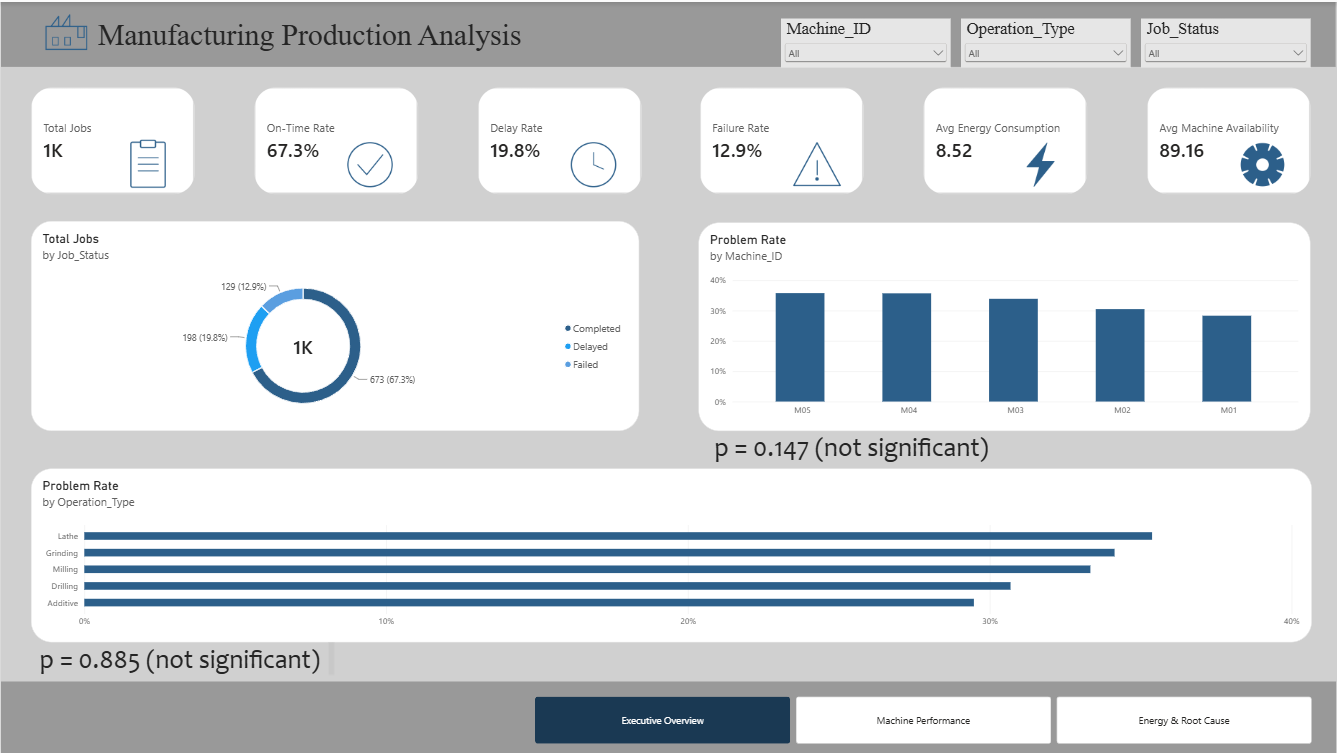

Layout of this report page (visuals, bound fields, positions):
{"tool":"powerbi","page":{"name":"Executive Overview","canvas":[1920,1080],"ordinal":0},"visuals":[{"type":"textbox","box":[0,977.2,1919.9,103.5],"z":0},{"type":"pageNavigator","box":[768.2,997.8,1119.7,68],"z":1000},{"type":"textbox","box":[0,0,1919.1,93.5],"z":2000},{"type":"cardVisual","fields":{"Data":["hybrid_manufacturing.Total Jobs"]},"box":[43.5,121.9,235.3,153.1],"z":3000},{"type":"cardVisual","fields":{"Data":["hybrid_manufacturing.On-Time Rate"]},"box":[364.3,121.9,235.3,153.1],"z":4000},{"type":"cardVisual","fields":{"Data":["hybrid_manufacturing.Delay Rate"]},"box":[685.2,121.9,235.3,153.1],"z":5000},{"type":"cardVisual","fields":{"Data":["hybrid_manufacturing.Failure Rate"]},"box":[1006.1,122.7,235.3,153.1],"z":6000},{"type":"cardVisual","fields":{"Data":["hybrid_manufacturing.Avg Energy Consumption"]},"box":[1327,121.9,235.3,153.1],"z":7000},{"type":"cardVisual","fields":{"Data":["hybrid_manufacturing.Avg Machine Availability"]},"box":[1647.9,121.9,235.3,153.1],"z":8000},{"type":"donutChart","fields":{"Category":["hybrid_manufacturing.Job_Status"],"Y":["hybrid_manufacturing.Total Jobs"]},"box":[43.2,315.8,874.5,302.1],"z":9000},{"type":"clusteredColumnChart","fields":{"Category":["hybrid_manufacturing.Machine_ID"],"Y":["hybrid_manufacturing.Problem Rate"]},"box":[1003.1,317.1,880.1,299.8],"z":10000},{"type":"clusteredBarChart","fields":{"Category":["hybrid_manufacturing.Operation_Type"],"Y":["hybrid_manufacturing.Problem Rate"]},"box":[43.1,670.9,1842.2,250.2],"z":11000},{"type":"slicer","fields":{"Values":["hybrid_manufacturing.Machine_ID"]},"box":[1122.6,22.7,243.8,70.9],"z":12000},{"type":"slicer","fields":{"Values":["hybrid_manufacturing.Operation_Type"]},"box":[1380.5,22.7,243.8,70.9],"z":13000},{"type":"slicer","fields":{"Values":["hybrid_manufacturing.Job_Status"]},"box":[1638.5,22.7,243.8,70.9],"z":14000},{"type":"textbox","box":[1003.1,617,440.1,77.7],"z":15000},{"type":"textbox","box":[43.1,23.7,808.9,53.9],"z":16000},{"type":"textbox","box":[43.2,922.2,436.1,54.5],"z":17000},{"type":"image","box":[161.8,192,99.2,84.1],"z":17001},{"type":"image","box":[481,192,99.2,84.1],"z":17002},{"type":"image","box":[802.5,192,99.2,84.1],"z":17003},{"type":"image","box":[1123.9,192,99.2,84.1],"z":17004},{"type":"image","box":[1445.3,192,99.2,84.1],"z":17005},{"type":"image","box":[1764.6,192,99.2,84.1],"z":17006},{"type":"image","box":[43.1,0,101.4,77.7],"z":17007}]}

Visuals, with their boxes in screenshot pixels (x1, y1, x2, y2), scaled from the page's 1920x1080 canvas onto the 1337x753 screenshot:
textbox: bbox=[0, 681, 1336, 752]
pageNavigator: bbox=[535, 696, 1315, 743]
textbox: bbox=[0, 0, 1336, 65]
cardVisual - hybrid_manufacturing.Total Jobs: bbox=[30, 85, 194, 192]
cardVisual - hybrid_manufacturing.On-Time Rate: bbox=[254, 85, 418, 192]
cardVisual - hybrid_manufacturing.Delay Rate: bbox=[477, 85, 641, 192]
cardVisual - hybrid_manufacturing.Failure Rate: bbox=[701, 86, 864, 192]
cardVisual - hybrid_manufacturing.Avg Energy Consumption: bbox=[924, 85, 1088, 192]
cardVisual - hybrid_manufacturing.Avg Machine Availability: bbox=[1148, 85, 1311, 192]
donutChart - hybrid_manufacturing.Job_Status x hybrid_manufacturing.Total Jobs: bbox=[30, 220, 639, 431]
clusteredColumnChart - hybrid_manufacturing.Machine_ID x hybrid_manufacturing.Problem Rate: bbox=[699, 221, 1311, 430]
clusteredBarChart - hybrid_manufacturing.Operation_Type x hybrid_manufacturing.Problem Rate: bbox=[30, 468, 1313, 642]
slicer - hybrid_manufacturing.Machine_ID: bbox=[782, 16, 951, 65]
slicer - hybrid_manufacturing.Operation_Type: bbox=[961, 16, 1131, 65]
slicer - hybrid_manufacturing.Job_Status: bbox=[1141, 16, 1311, 65]
textbox: bbox=[699, 430, 1005, 484]
textbox: bbox=[30, 17, 593, 54]
textbox: bbox=[30, 643, 334, 681]
image: bbox=[113, 134, 182, 193]
image: bbox=[335, 134, 404, 193]
image: bbox=[559, 134, 628, 193]
image: bbox=[783, 134, 852, 193]
image: bbox=[1006, 134, 1076, 193]
image: bbox=[1229, 134, 1298, 193]
image: bbox=[30, 0, 101, 54]
